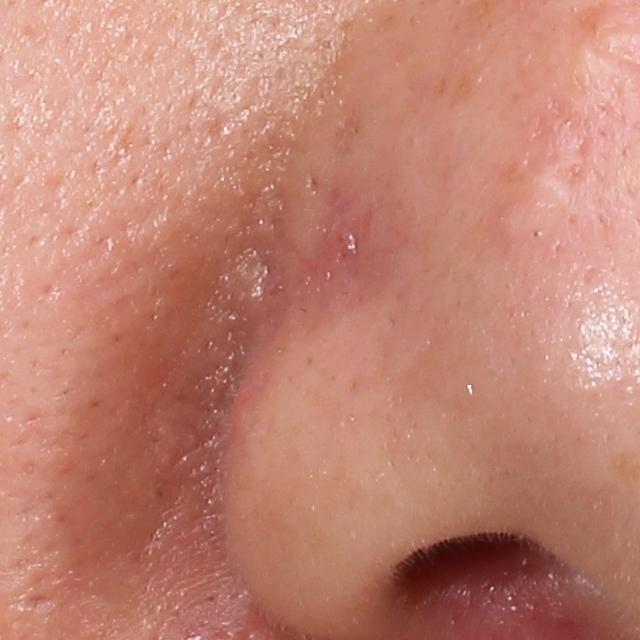hypertrophic_scar: (487, 113, 588, 253)
